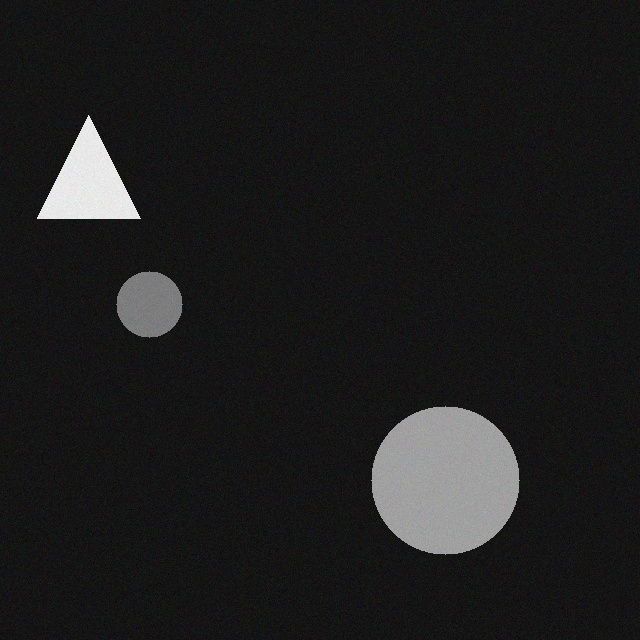circle: (373, 402, 521, 550), (118, 267, 184, 333)
triangle: (39, 111, 142, 214)
